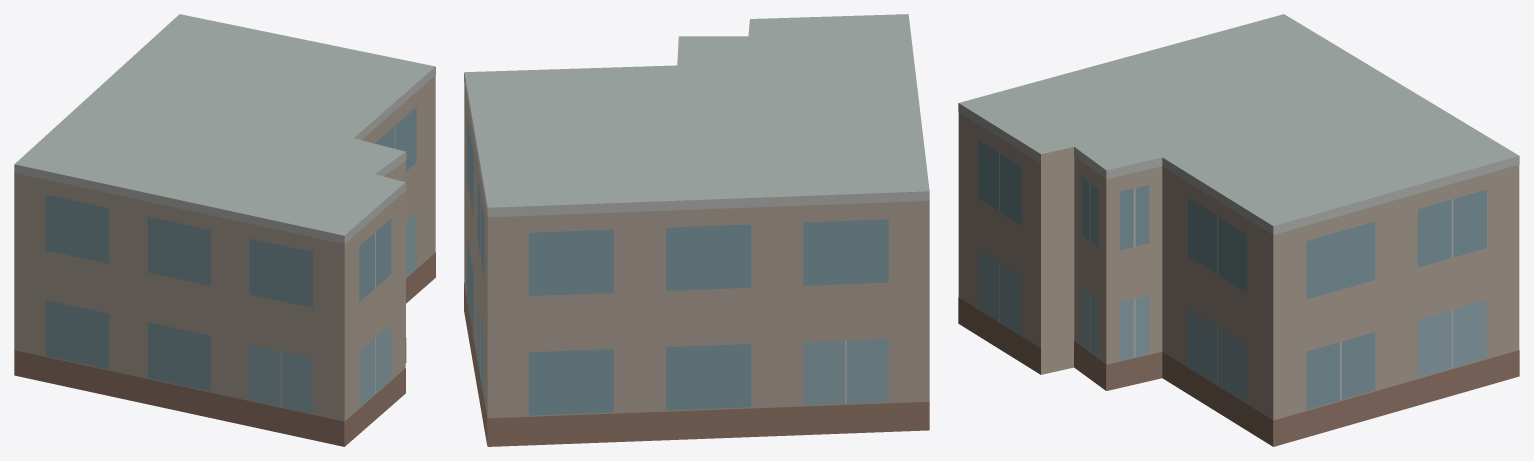
The model's file is survey-upis-32763309.glb.
3 renders of one model, left to right at view 1: azimuth 30°, elevation 25°; view 2: azimuth 150°, elevation 25°; view 3: azimuth 270°, elevation 25°, orthographic. The views are drawn at different scales.
Parts seen in each view (by area): view 1: survey-upis-32763309.tmp; view 2: survey-upis-32763309.tmp; view 3: survey-upis-32763309.tmp.
Part boxes in pixels (x1,y1,x2,y2): survey-upis-32763309.tmp: (14, 14, 435, 446); survey-upis-32763309.tmp: (464, 14, 929, 446); survey-upis-32763309.tmp: (958, 14, 1519, 446).
Size of the model in its own units: 12.59 by 6.1 by 14.07.
